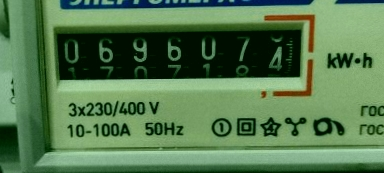0: (62, 35, 81, 64), (198, 33, 217, 60)
4: (266, 44, 284, 72)
6: (165, 33, 183, 61), (96, 36, 114, 63)
7: (233, 32, 252, 62)
9: (130, 35, 148, 63)
screen: (40, 10, 320, 99)
